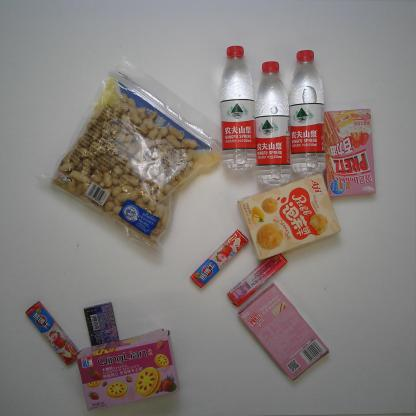Candy: (25, 301, 80, 366), (190, 228, 248, 288), (226, 253, 288, 308)
Dessert: (237, 172, 341, 262), (238, 282, 329, 382), (76, 328, 180, 411), (324, 108, 376, 198)
Dried Food: (39, 55, 223, 267)
Drink: (220, 46, 257, 172), (290, 50, 326, 176), (256, 61, 291, 188)
Gum: (83, 301, 120, 347)
